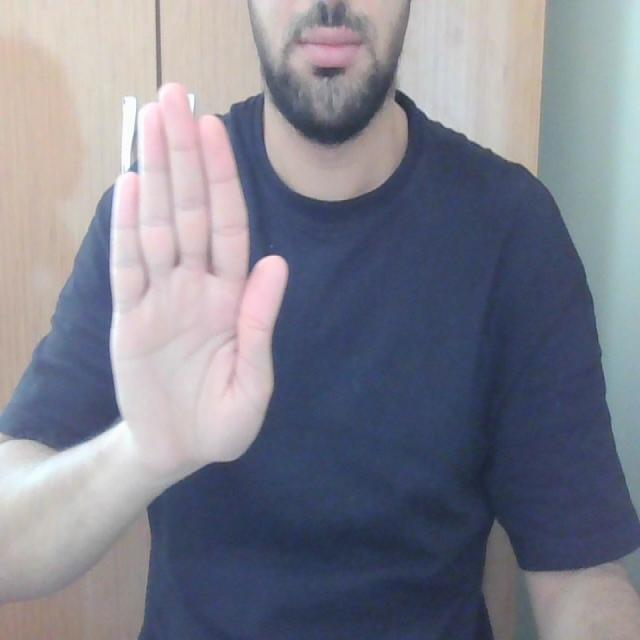Dur: (97, 43, 293, 478)
